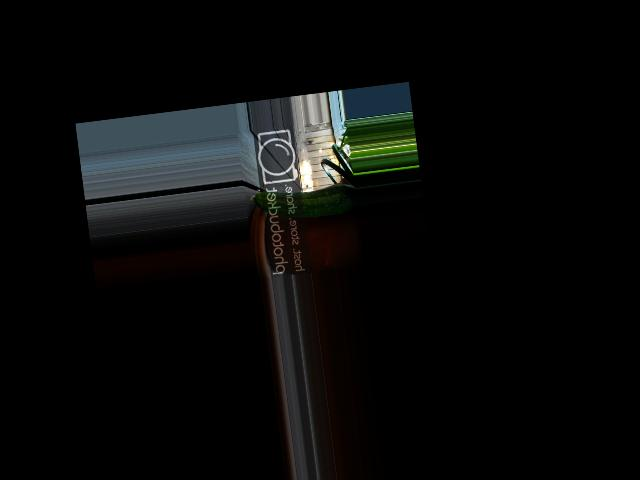cucumber: (248, 180, 357, 224)
